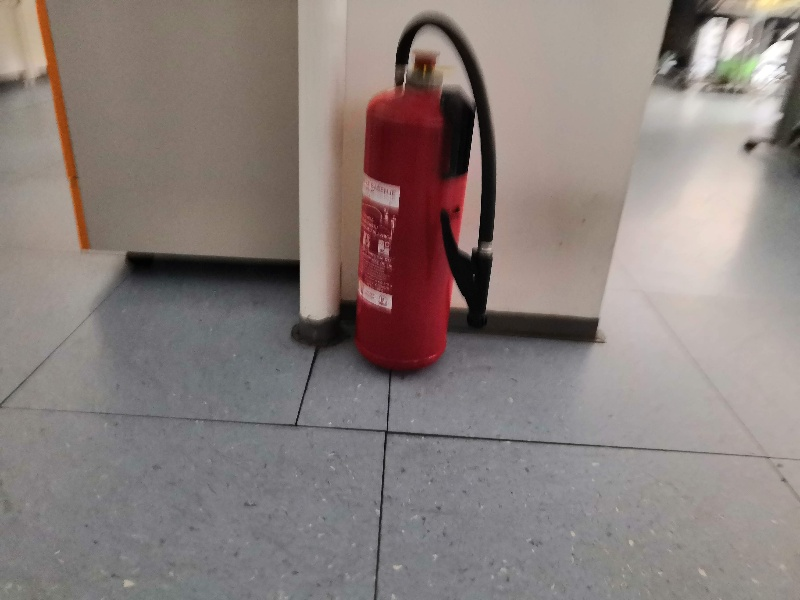vataparat: (352, 12, 496, 377)
